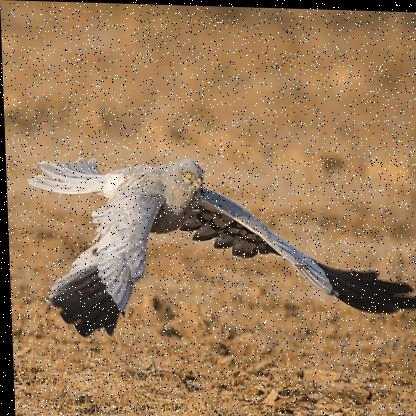Burung: (23, 153, 415, 344)
